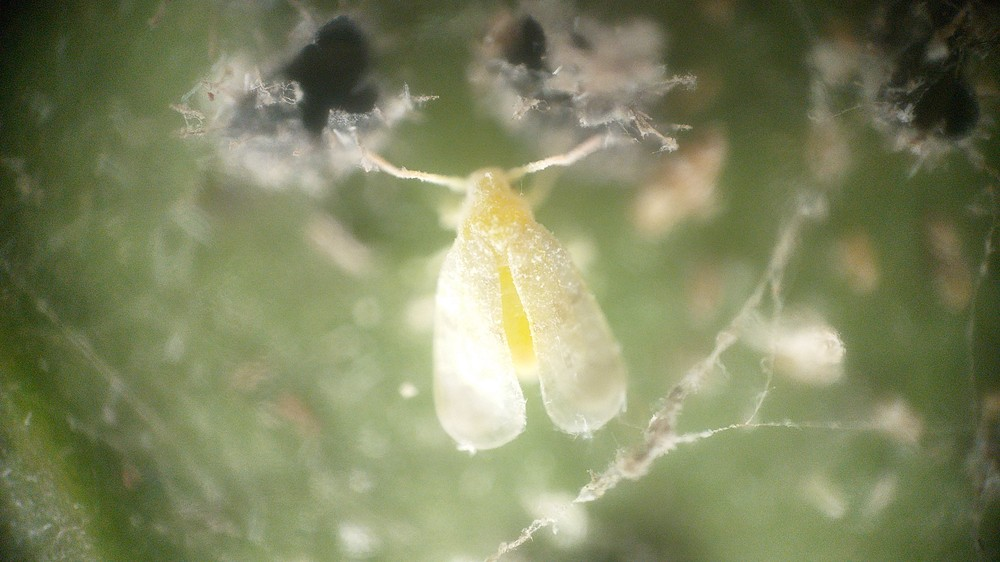Mosca Blanca: (354, 135, 689, 472)
